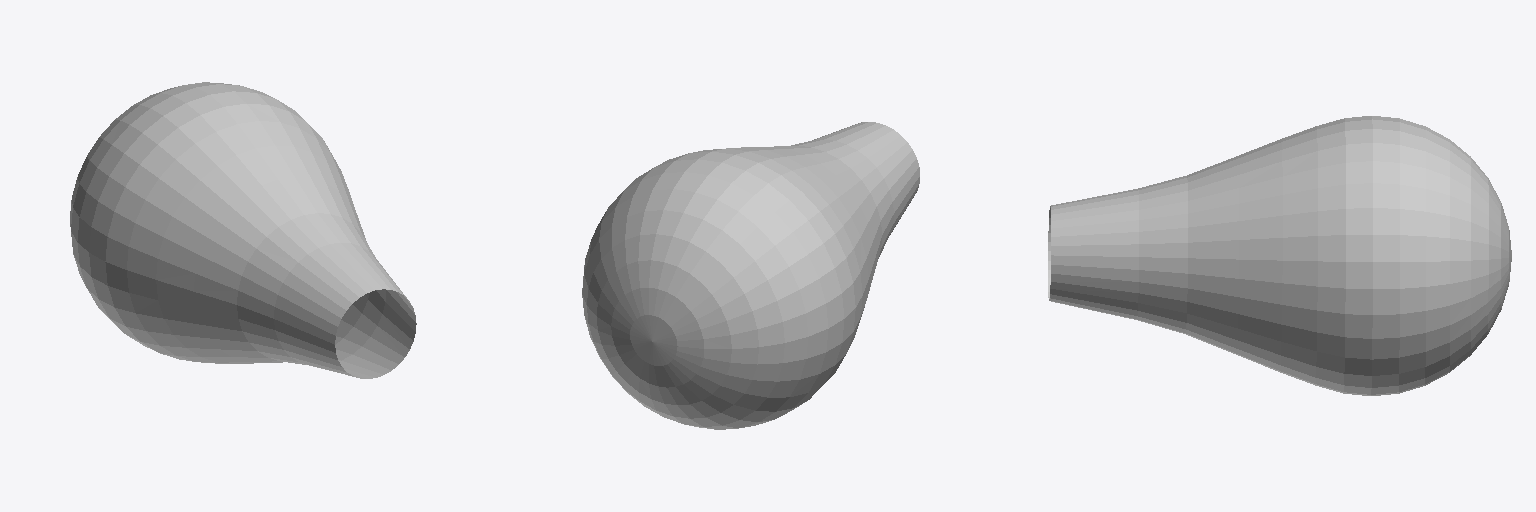
Rendered from flame.obj.
3 views of the same model, side by side, from view 1: azimuth 30°, elevation 25°; view 2: azimuth 150°, elevation 25°; view 3: azimuth 270°, elevation 25° (orthographic).
Visible parts, largest first — view 1: obj1; view 2: obj1; view 3: obj1.
Boxes of the visible parts, <box> form: obj1: <box>70,82,416,378</box>; obj1: <box>582,122,919,429</box>; obj1: <box>1048,116,1511,395</box>.
Size of the model in its own units: 2 by 2 by 3.3.